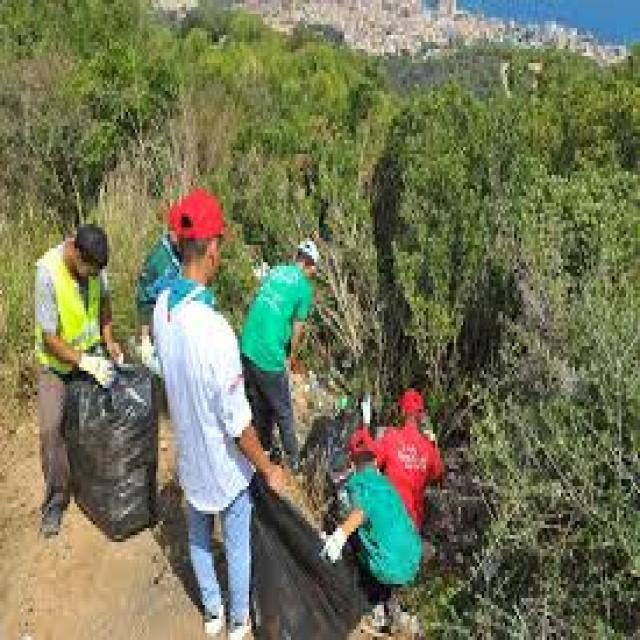Trashbag: (65, 374, 160, 537), (297, 426, 346, 468)
